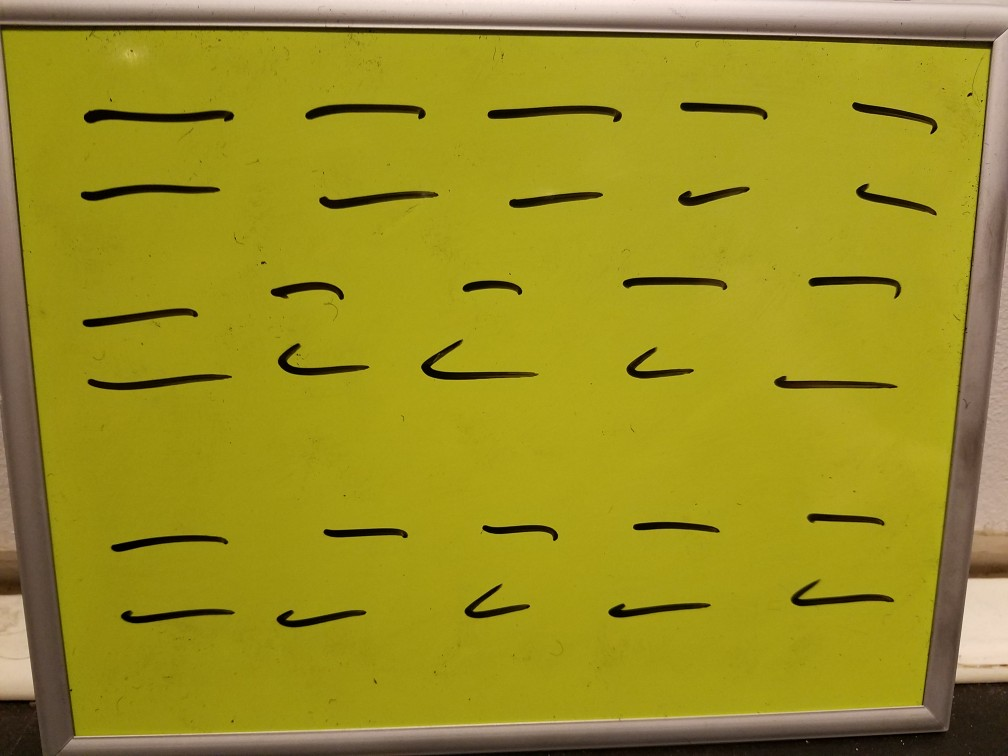=: (62, 271, 239, 423), (252, 494, 416, 645), (775, 257, 929, 411), (589, 498, 744, 646), (65, 91, 239, 222), (411, 251, 559, 404), (585, 258, 746, 397), (765, 486, 915, 633), (479, 91, 628, 232), (99, 505, 246, 645), (432, 494, 563, 648), (827, 82, 957, 233), (263, 251, 397, 395), (285, 87, 439, 212), (660, 82, 783, 223)
